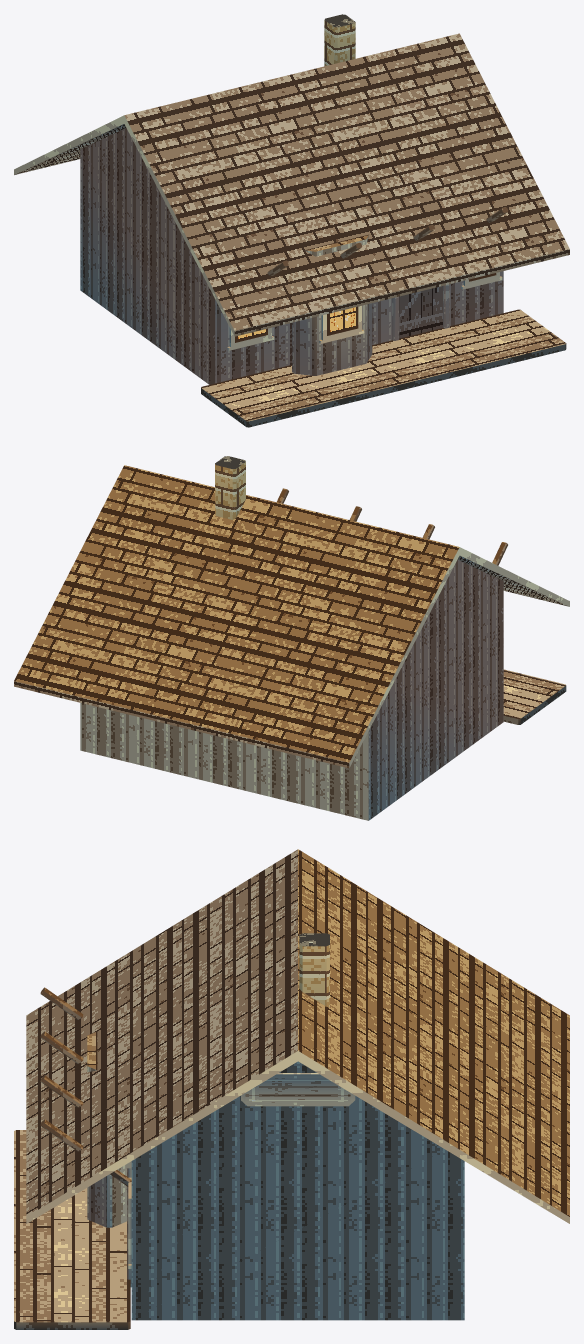
Rendered from wrail.station__small.glb.
3 renders of one model, top to bottom at view 1: azimuth 30°, elevation 25°; view 2: azimuth 150°, elevation 25°; view 3: azimuth 270°, elevation 25°, orthographic. The views are drawn at different scales.
Visible parts, largest first — view 1: kit_roof, kit_body, kit_deck, kit_bay, kit_card_panes, kit_chimney, kit_windows, kit_trim, kit_braces; view 2: kit_roof, kit_body, kit_deck, kit_chimney, kit_braces; view 3: kit_roof, kit_body, kit_deck, kit_bay, kit_card_panes, kit_chimney, kit_braces, kit_trim.
Boxes of the visible parts, x1,y1,x2,y2 form: kit_roof: (14, 33, 569, 336); kit_body: (80, 128, 503, 384); kit_deck: (201, 309, 566, 427); kit_bay: (292, 234, 372, 375); kit_card_panes: (235, 273, 496, 342); kit_chimney: (324, 14, 355, 66); kit_windows: (227, 272, 502, 350); kit_trim: (392, 284, 449, 340); kit_braces: (267, 207, 508, 276); kit_roof: (14, 465, 569, 768); kit_body: (80, 560, 503, 820); kit_deck: (503, 669, 566, 724); kit_chimney: (215, 456, 245, 519); kit_braces: (277, 488, 507, 565); kit_roof: (26, 849, 569, 1223); kit_body: (131, 1061, 464, 1320); kit_deck: (14, 1130, 130, 1329); kit_bay: (87, 1031, 127, 1227); kit_card_panes: (245, 1078, 350, 1102); kit_chimney: (299, 933, 329, 1007); kit_braces: (40, 987, 131, 1186); kit_trim: (126, 1073, 355, 1287).
Bounding box in the file's own units: 8.6 × 6.5 × 10.02.
10 materials, 10 textured.
